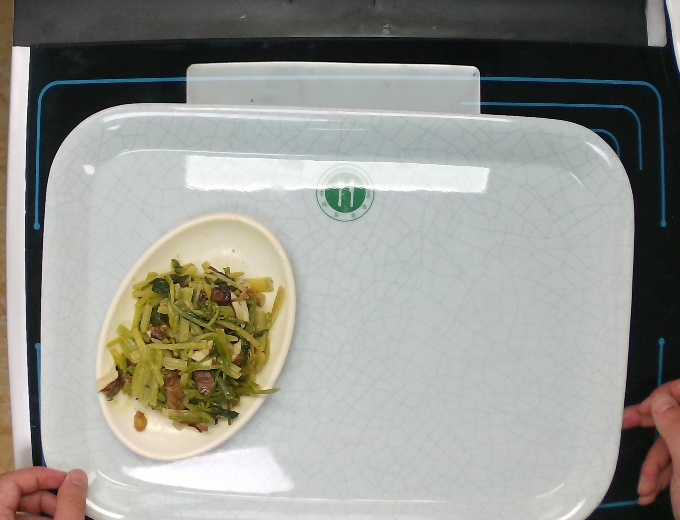JYsf-Tuo_Yuan_Wan: (95, 212, 297, 460)
